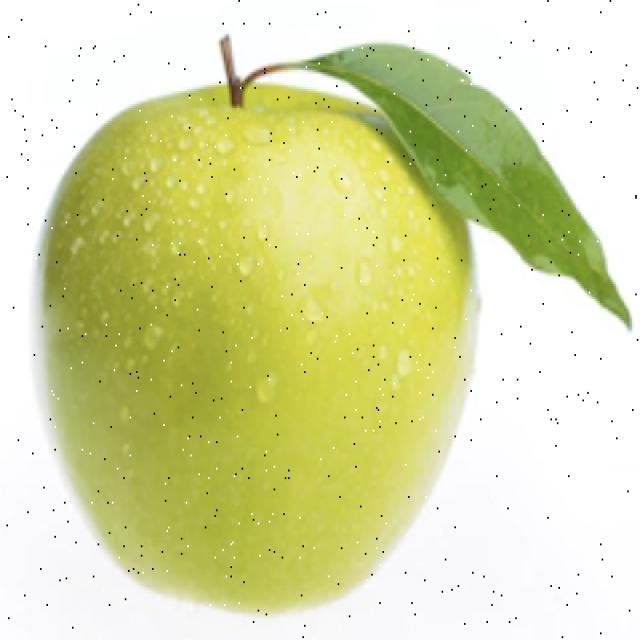Fresh Apple: (67, 70, 473, 595)
